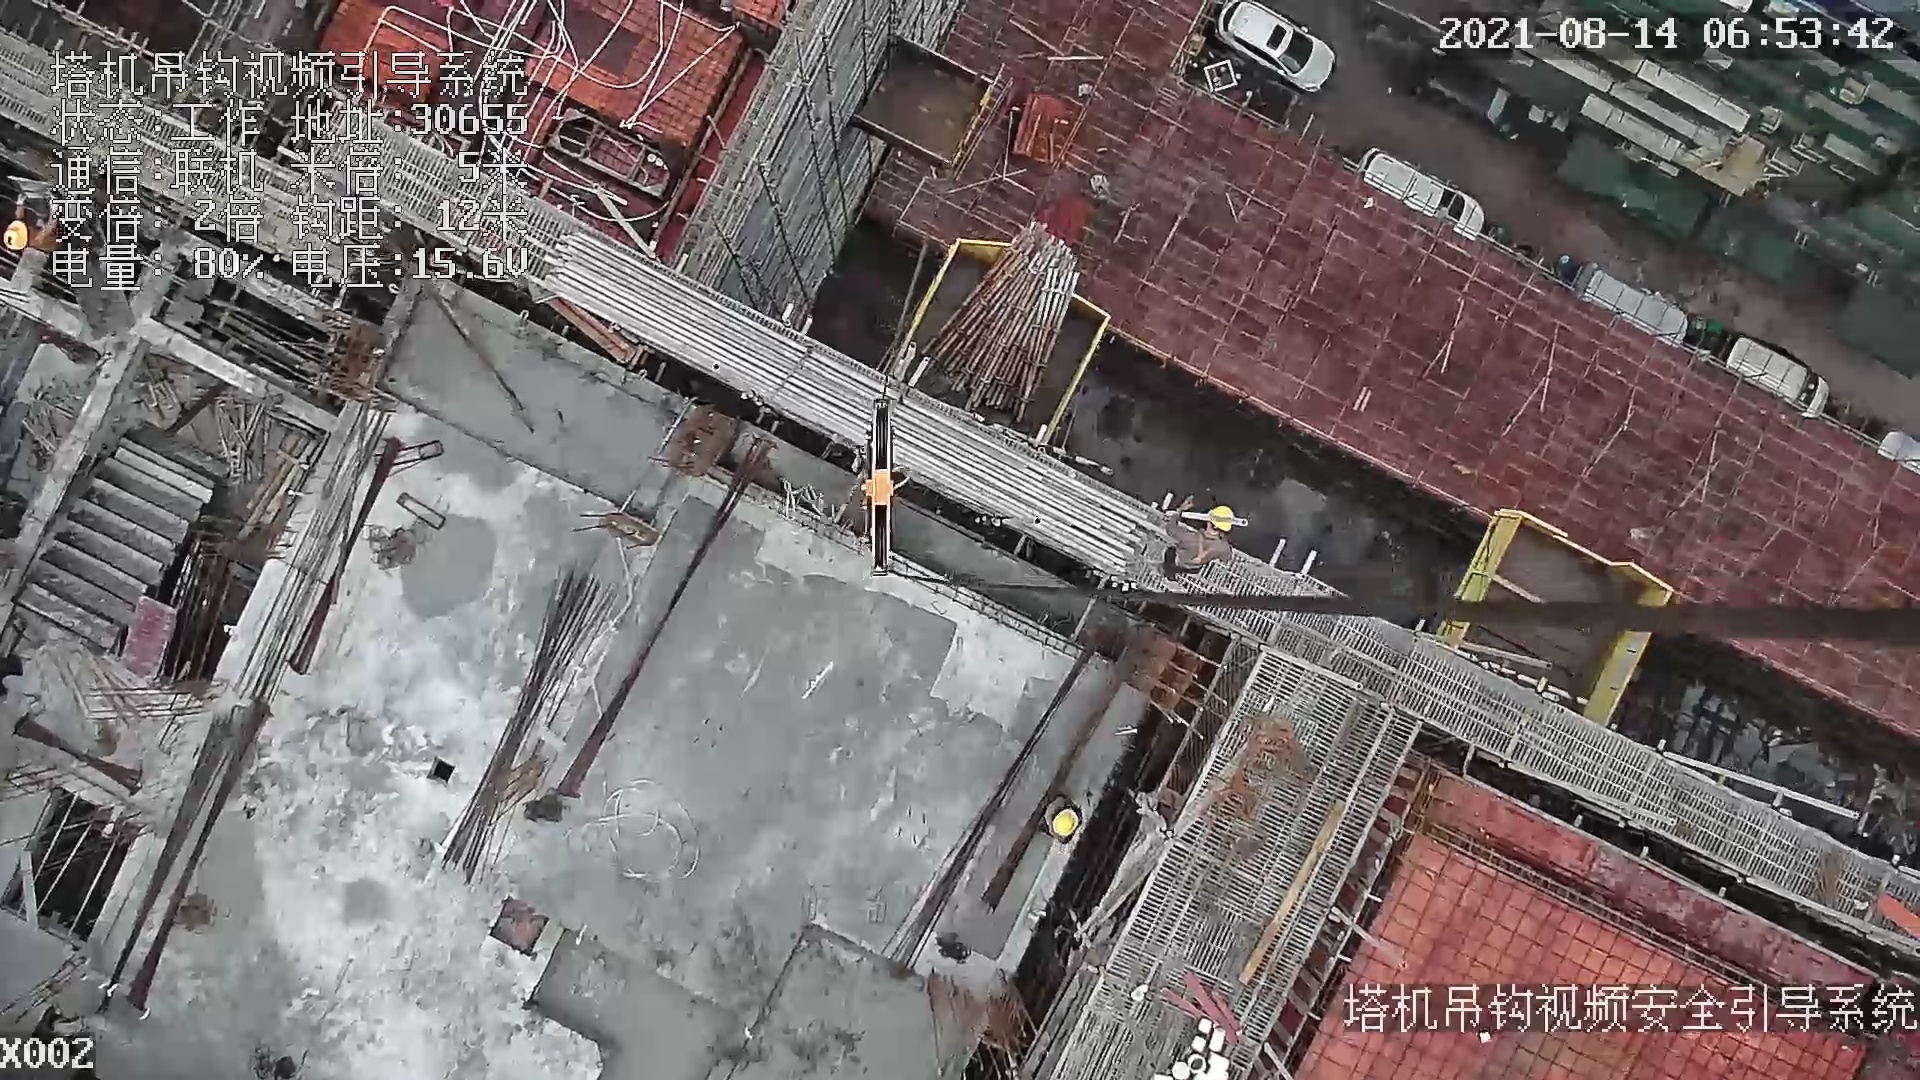helmet: (3, 220, 27, 252), (1206, 506, 1234, 531), (1052, 810, 1079, 835)
hook: (856, 394, 913, 589)
person: (1159, 499, 1237, 590), (1035, 791, 1083, 839)
rebar: (539, 237, 1159, 580), (443, 577, 622, 881)
scaffold: (919, 219, 1080, 419)
